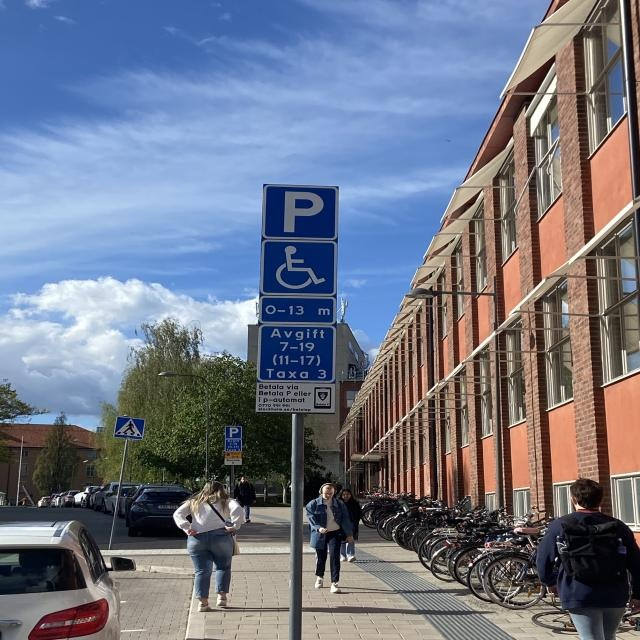P-skylt: (260, 183, 338, 240)
